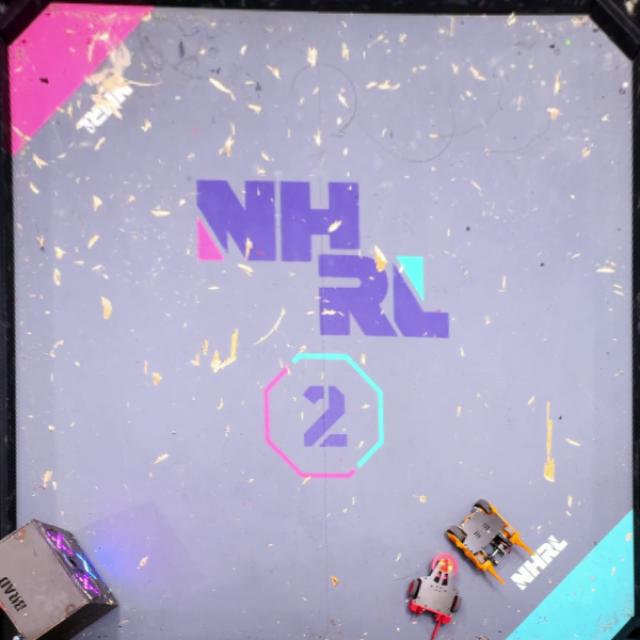housebot: (0, 518, 119, 640)
robot: (443, 498, 533, 584), (408, 551, 460, 640)
